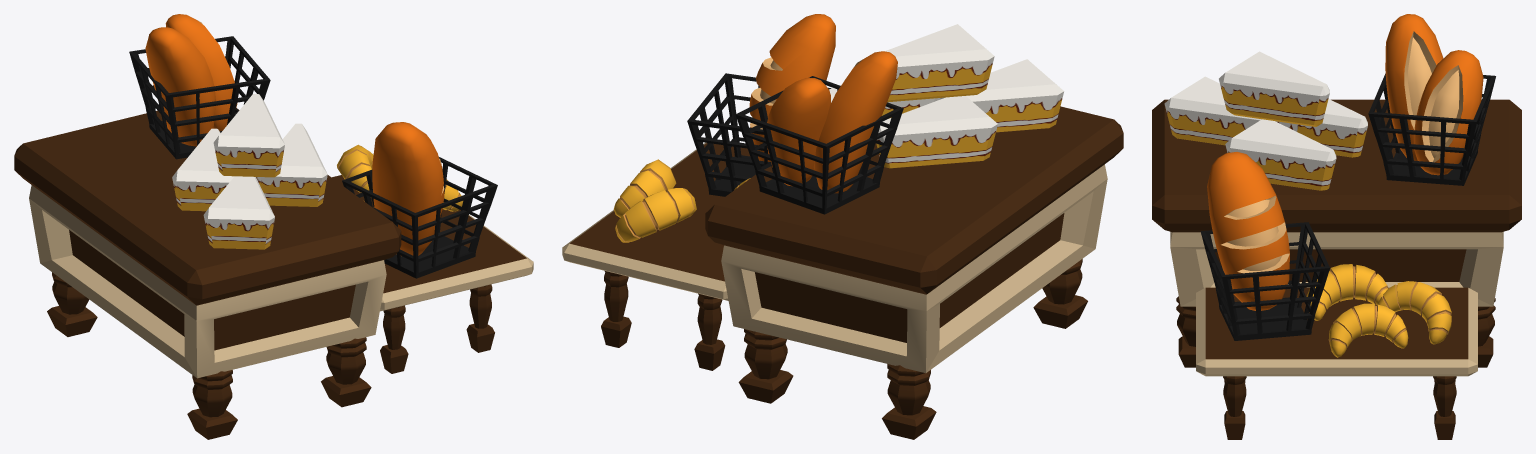
Rendered from DECO_BAKERY.fbx.
3 views of the same model, side by side, from view 1: azimuth 30°, elevation 25°; view 2: azimuth 150°, elevation 25°; view 3: azimuth 270°, elevation 25° (orthographic). The views are drawn at different scales.
Visible parts, largest first — view 1: pCube2, pCube15, pCube16, pCube1, pCube24, pCube12, pCube23, pCube14, pCube21, pCube22, pCube5, pCube4 (+5 smaller); view 2: pCube2, pCube1, pCube24, pCube22, pCube23, pCube12, pCube16, pCube14, pCube15, pCube25, pCube6, pCube7 (+5 smaller); view 3: pCube2, pCube1, pCube16, pCube15, pCube23, pCube24, pCube25, pCube21, pCube12, pCube14, pCube13, pCube26 (+6 smaller).
Boxes of the visible parts, <box> form: pCube2: <box>14,108,401,378</box>; pCube15: <box>342,157,497,278</box>; pCube16: <box>372,122,444,256</box>; pCube1: <box>332,175,533,311</box>; pCube24: <box>129,36,270,159</box>; pCube12: <box>145,27,215,146</box>; pCube23: <box>213,94,284,177</box>; pCube14: <box>203,176,274,249</box>; pCube21: <box>257,123,327,206</box>; pCube22: <box>172,128,234,211</box>; pCube5: <box>187,370,237,439</box>; pCube4: <box>321,337,371,407</box>; pCube2: <box>705,106,1123,373</box>; pCube1: <box>562,142,750,300</box>; pCube24: <box>735,76,903,214</box>; pCube22: <box>876,96,997,168</box>; pCube23: <box>885,24,994,102</box>; pCube12: <box>814,51,897,193</box>; pCube16: <box>749,14,835,161</box>; pCube14: <box>940,59,1064,132</box>; pCube15: <box>687,73,831,196</box>; pCube25: <box>767,77,830,186</box>; pCube6: <box>882,364,936,439</box>; pCube7: <box>738,329,793,403</box>; pCube2: <box>1152,99,1521,306</box>; pCube1: <box>1196,287,1477,376</box>; pCube16: <box>1207,152,1289,310</box>; pCube15: <box>1200,222,1329,340</box>; pCube23: <box>1219,51,1329,126</box>; pCube24: <box>1368,73,1495,185</box>; pCube25: <box>1414,50,1483,175</box>; pCube21: <box>1225,119,1336,190</box>; pCube12: <box>1385,14,1443,160</box>; pCube14: <box>1164,76,1261,145</box>; pCube13: <box>1328,303,1408,357</box>; pCube26: <box>1378,281,1451,344</box>.
Size of the model in its own units: 8.26 by 6.7 by 7.24.
5 materials, 5 textured.
